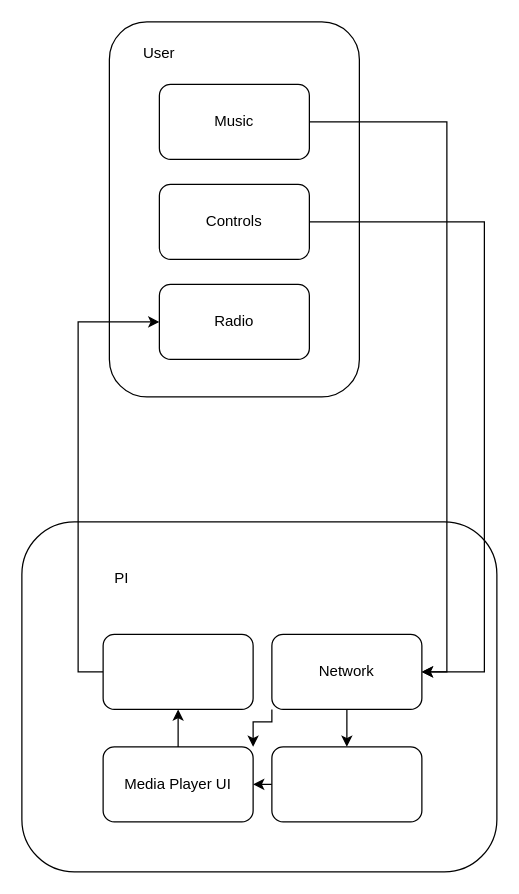
This 519x894 diagram has some shape labels left out. The shapes that lost their labels are listed below. From the top down, each one's centre as x and y in pixels, then its label:
the point at 177,671: Radio Antenna
the point at 346,784: Media Storage
